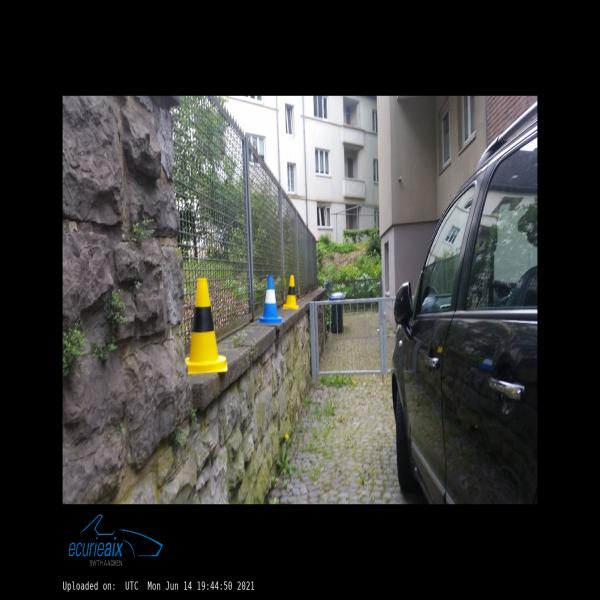blue_cone: (256, 276, 284, 323)
yellow_cone: (186, 278, 228, 374), (283, 276, 299, 309)
